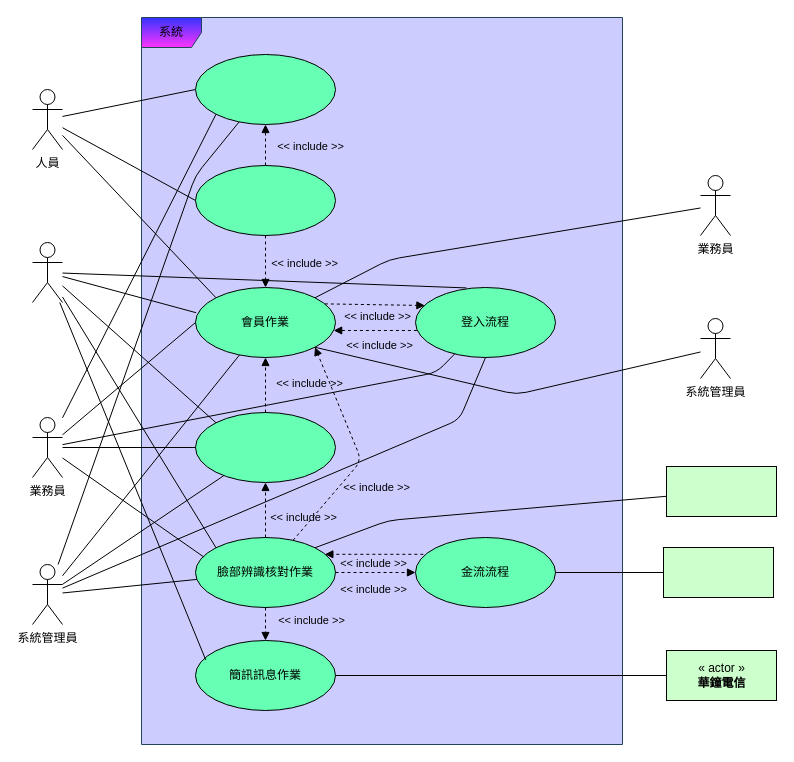
Some shapes in this 794 by 762 pixel diagram are drawn without their labels. Each missing label, with the box of its shape:
« actor » 臉部辨識系統: (666, 466, 776, 516)
« actor » 騎華銀行: (662, 546, 774, 598)
基本資料作業: (194, 412, 336, 482)
會員: (32, 242, 62, 302)
註冊流程: (194, 164, 336, 236)
連結收發流程: (194, 54, 336, 124)
